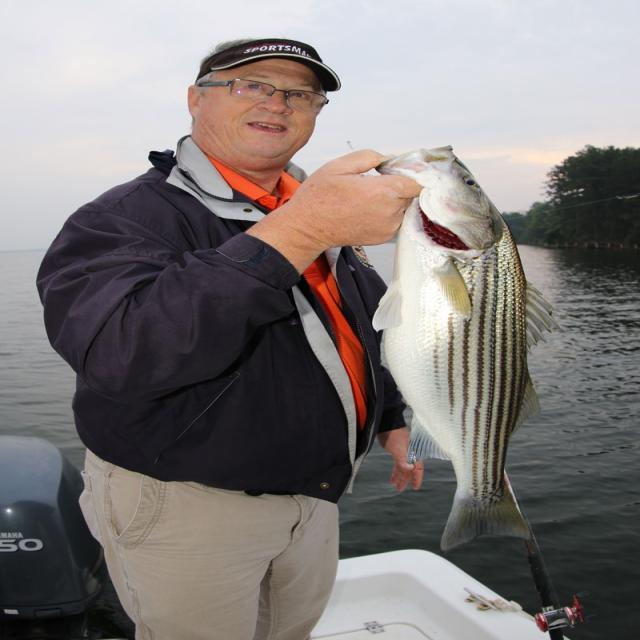Bass - Striped: (373, 147, 556, 551)
